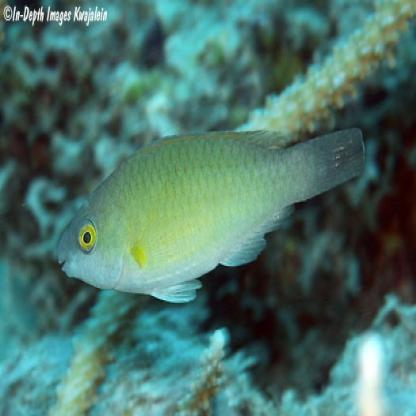parrot: (52, 120, 369, 315)
